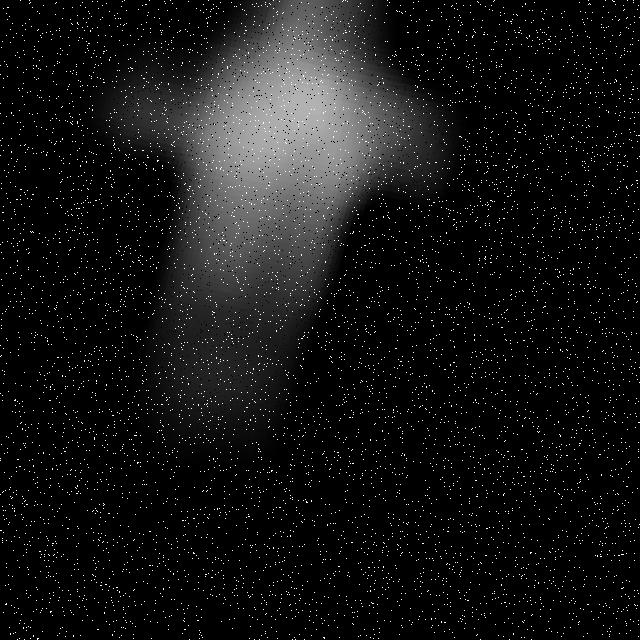person: (1, 1, 466, 517)
